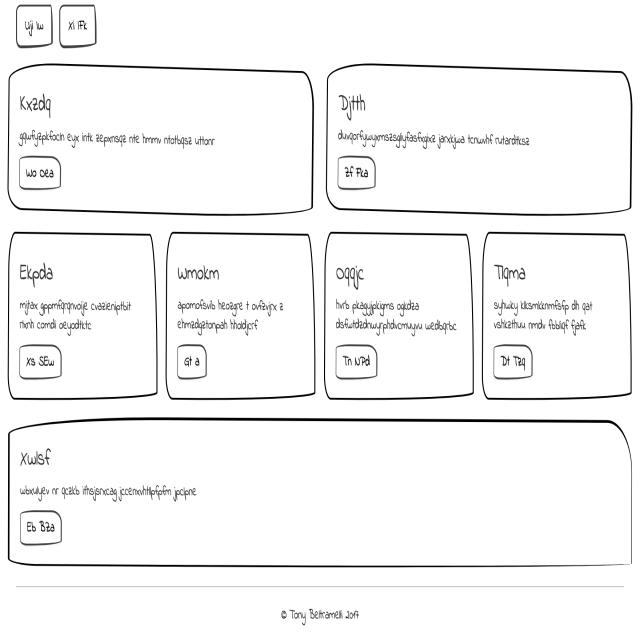Button: (334, 342, 382, 383), (491, 342, 539, 382), (16, 511, 67, 547), (16, 344, 68, 379), (16, 156, 63, 192), (335, 156, 380, 192), (175, 343, 211, 380)
Card: (6, 424, 634, 572), (324, 61, 632, 222), (8, 64, 315, 218), (7, 226, 160, 406), (324, 232, 481, 404), (167, 228, 318, 405), (483, 234, 630, 400)
Footer: (4, 581, 639, 640)
Heading 6: (489, 256, 534, 290), (174, 260, 228, 287), (16, 261, 56, 287), (17, 91, 55, 118), (333, 262, 367, 292), (337, 90, 370, 120)
Navigation Bar: (12, 5, 110, 53)
Paragraph: (335, 122, 535, 154), (19, 127, 217, 154), (336, 298, 459, 336), (18, 483, 202, 506), (17, 298, 136, 333), (176, 297, 286, 333), (493, 297, 596, 333)
